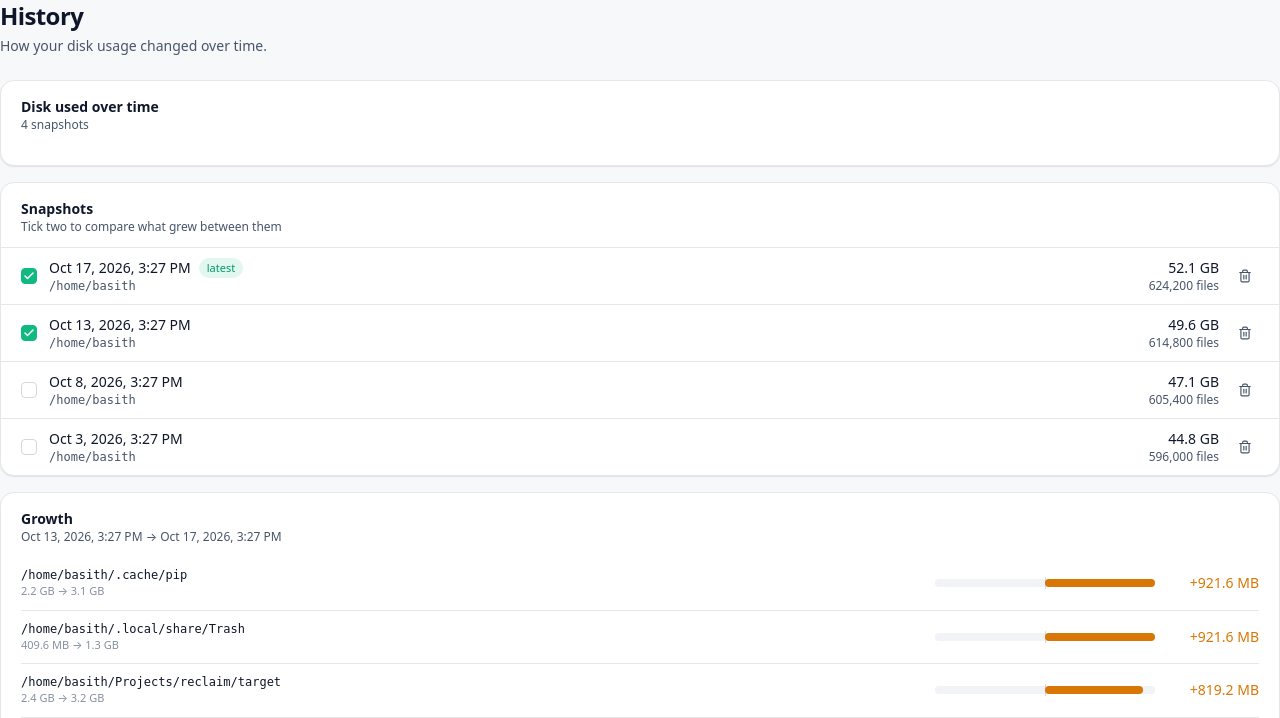
Scenario: History page › deleting a snapshot asks for confirmation
Check: the text "latest" is shown, box 199,258 -> 243,278
Click the button named "Delete snapshot" in the row of "latest".
click(1245, 276)  # box 1231,262 -> 1259,290
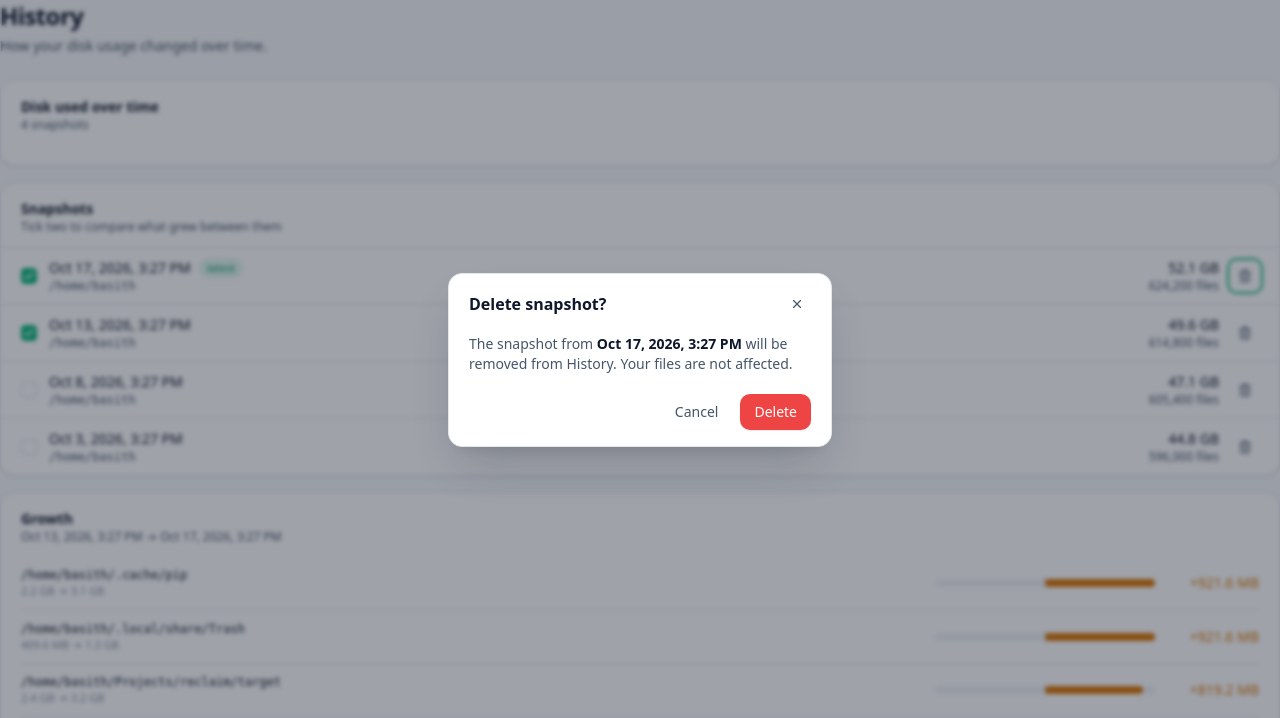
Check: the dialog "Delete snapshot?" is shown, box 448,273 -> 832,447
